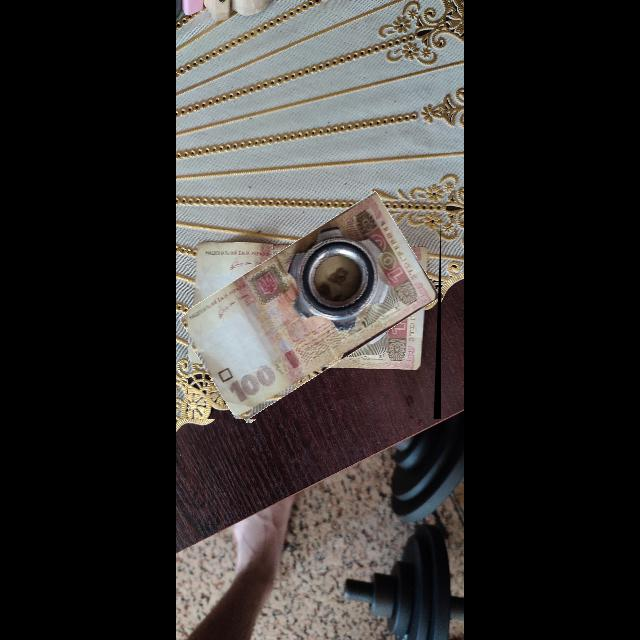100uah: (188, 193, 439, 420)
